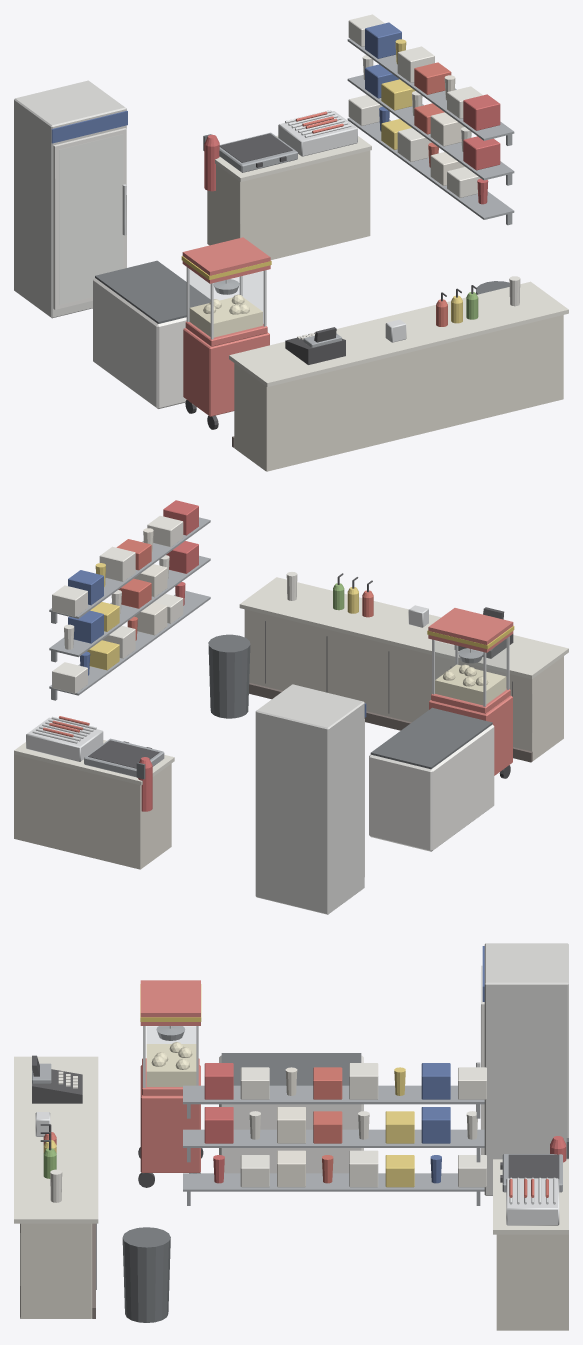
Rendered from concession.glb.
3 renders of one model, top to bottom at view 1: azimuth 30°, elevation 25°; view 2: azimuth 150°, elevation 25°; view 3: azimuth 270°, elevation 25°, orthographic. The views are drawn at different scales.
Parts seen in each view (by area): view 1: concession_counter, concession_glass, concession_ctop, concession_frame, concession_cart_w, concession_enamel, concession_formica, concession_steel, concession_paper, concession_steel_d, concession_chrome, concession_flag_r (+6 smaller); view 2: concession_counter, concession_cart_w, concession_enamel, concession_ctop, concession_steel_d, concession_paper, concession_steel, concession_formica, concession_glass, concession_chrome, concession_flag_r, concession_food_r (+6 smaller); view 3: concession_cart_w, concession_counter, concession_ctop, concession_steel, concession_paper, concession_formica, concession_steel_d, concession_enamel, concession_chrome, concession_dark, concession_glass, concession_flag_r (+5 smaller).
Boxes of the visible parts, bbox=[...] form: concession_counter: bbox=[207, 150, 563, 471]; concession_glass: bbox=[59, 135, 263, 336]; concession_ctop: bbox=[215, 135, 568, 386]; concession_frame: bbox=[53, 128, 126, 309]; concession_cart_w: bbox=[14, 80, 126, 318]; concession_enamel: bbox=[93, 278, 186, 408]; concession_formica: bbox=[182, 237, 270, 416]; concession_steel: bbox=[213, 38, 514, 347]; concession_paper: bbox=[297, 14, 520, 339]; concession_steel_d: bbox=[95, 134, 509, 323]; concession_chrome: bbox=[122, 110, 406, 342]; concession_flag_r: bbox=[204, 94, 500, 204]; concession_counter: bbox=[14, 609, 563, 869]; concession_cart_w: bbox=[255, 684, 364, 914]; concession_enamel: bbox=[369, 724, 494, 851]; concession_ctop: bbox=[14, 577, 568, 785]; concession_steel_d: bbox=[136, 634, 492, 779]; concession_paper: bbox=[52, 515, 297, 693]; concession_steel: bbox=[49, 517, 483, 777]; concession_formica: bbox=[428, 608, 513, 775]; concession_glass: bbox=[434, 639, 506, 704]; concession_chrome: bbox=[26, 605, 509, 761]; concession_flag_r: bbox=[138, 500, 198, 811]; concession_food_r: bbox=[43, 539, 373, 737]; concession_cart_w: bbox=[484, 943, 568, 1195]; concession_counter: bbox=[20, 1223, 568, 1330]; concession_ctop: bbox=[14, 1056, 568, 1234]; concession_steel: bbox=[32, 1026, 562, 1205]; concession_paper: bbox=[50, 1063, 486, 1202]; concession_formica: bbox=[140, 980, 200, 1172]; concession_steel_d: bbox=[122, 1053, 568, 1322]; concession_enamel: bbox=[219, 1055, 363, 1173]; concession_chrome: bbox=[35, 1026, 559, 1225]; concession_dark: bbox=[32, 1055, 559, 1289]; concession_glass: bbox=[147, 1026, 195, 1085]; concession_flag_r: bbox=[204, 1063, 566, 1183].
Bounding box in the file's own units: 3.6 × 2.32 × 4.6.
